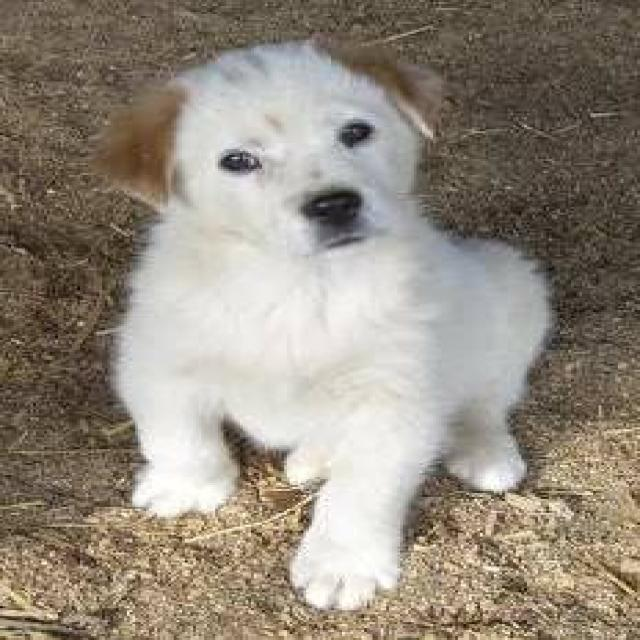dog: (86, 32, 557, 610)
